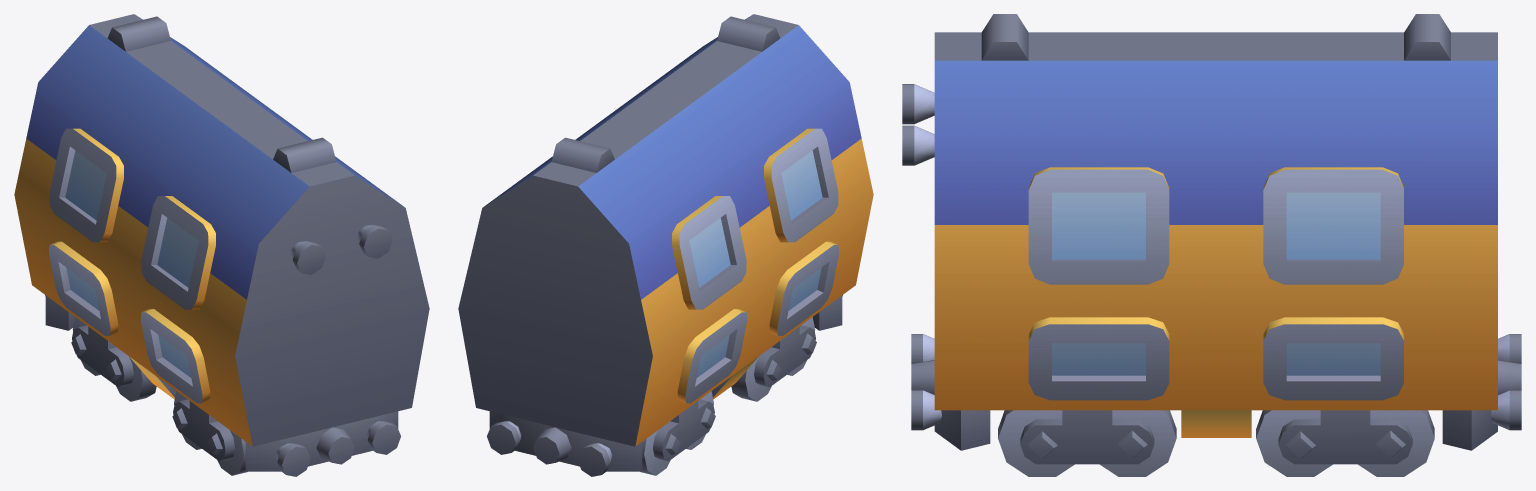
Rendered from train-electric-double-b.glb.
The picture shows the model from 3 angles, left to right: view 1: azimuth 30°, elevation 25°; view 2: azimuth 150°, elevation 25°; view 3: azimuth 270°, elevation 25°; orthographic projection. The views are drawn at different scales.
Parts seen in each view (by area): view 1: train-electric-double-b; view 2: train-electric-double-b; view 3: train-electric-double-b.
Boxes of the visible parts, x1,y1,x2,y2 form: train-electric-double-b: (14, 14, 429, 476); train-electric-double-b: (458, 14, 873, 476); train-electric-double-b: (902, 14, 1521, 476).
Bounding box in the file's own units: 1.29 × 1.92 × 2.64.
1 material, 1 textured.
